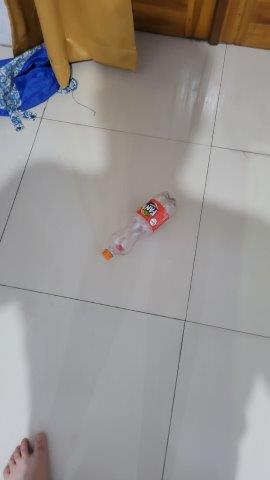botolplastik: (97, 191, 178, 261)
